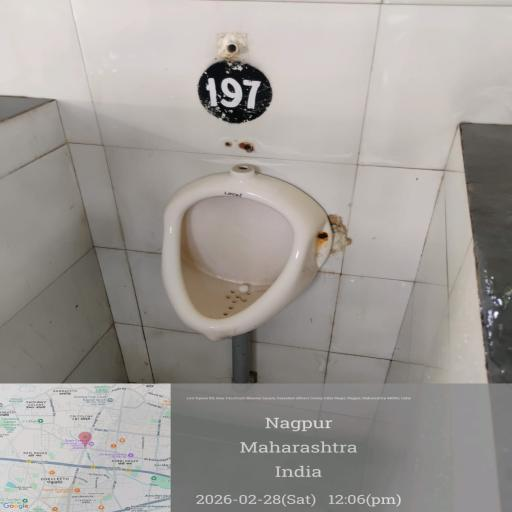clean_floor: (34, 34, 409, 96)
clean_urinal: (154, 139, 353, 349)
partial_dirty_floor: (48, 316, 436, 512)
